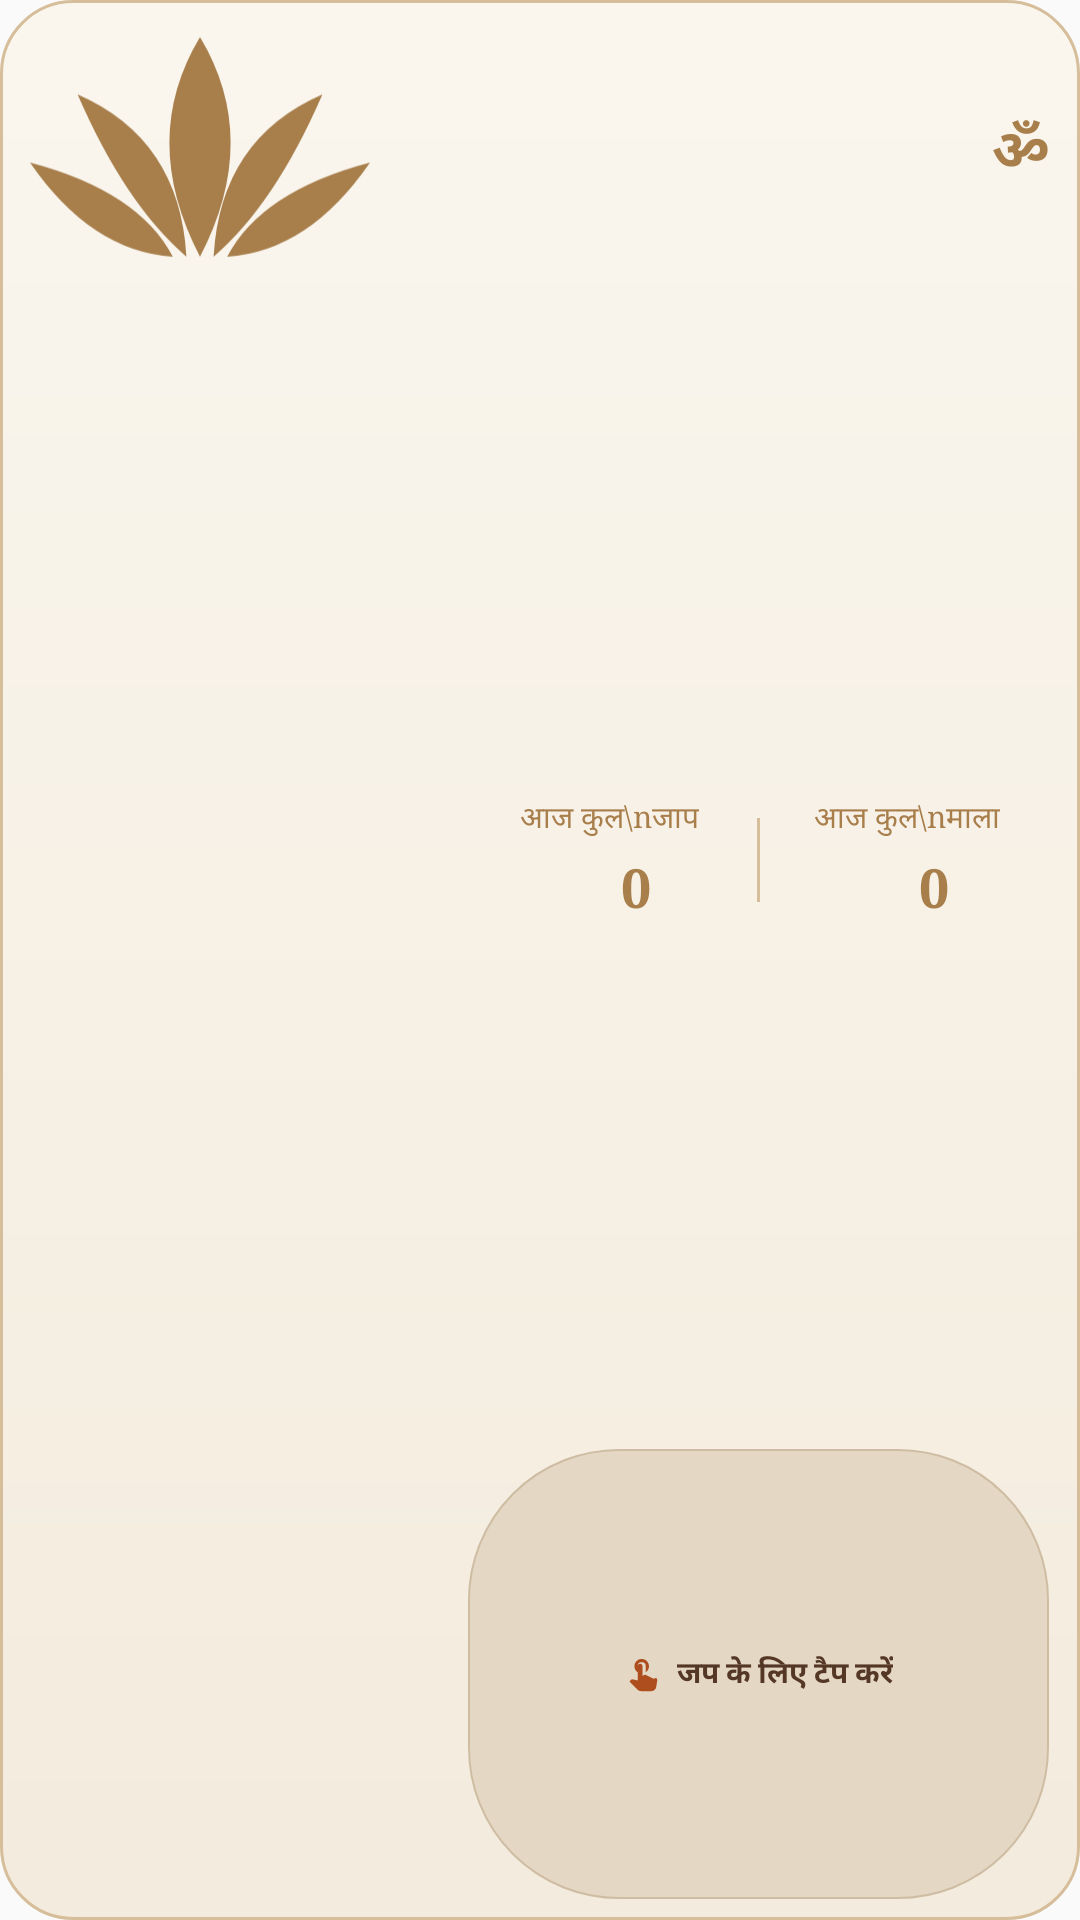

Icon click points for this 1080x1920 phone screenshot, format point (x, y):
Lotus: point (200, 147)
Tap: point (643, 1675)
